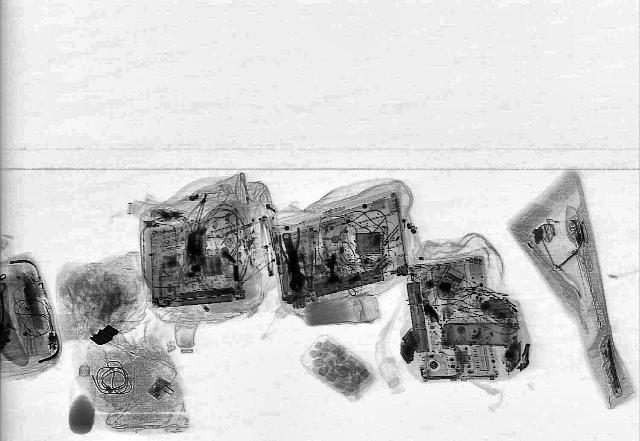Wrench: (274, 232, 312, 294)
